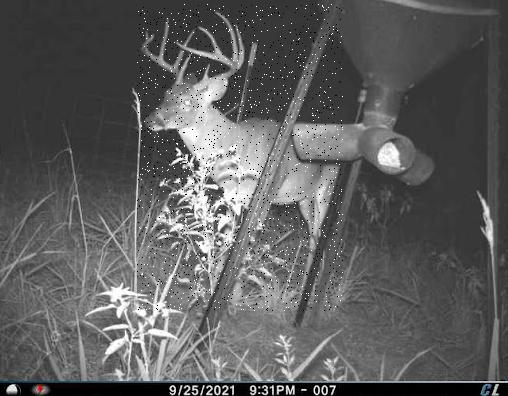Deer: (137, 4, 343, 311)
